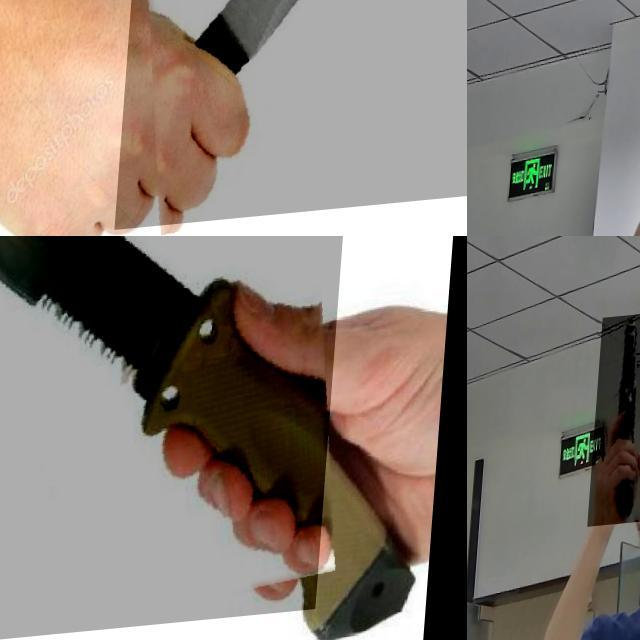-: (0, 236, 359, 640), (124, 0, 467, 236)
gun-knife-thesis - v11 Yolov5 augmented: (595, 315, 640, 530)
